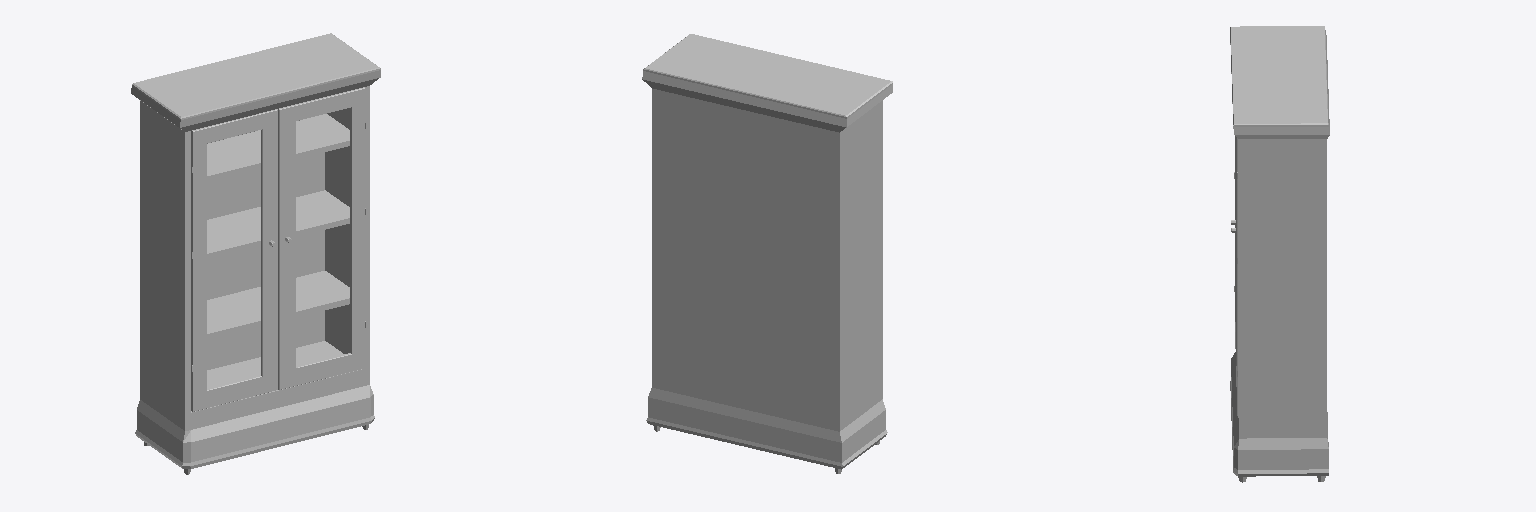
File: dulap.obj
3 renders of one model, left to right at view 1: azimuth 30°, elevation 25°; view 2: azimuth 150°, elevation 25°; view 3: azimuth 270°, elevation 25°, orthographic.
Visible parts, largest first — view 1: vitrine.003_vitrine_vitrine Mesh, vitrine.002_vitrine.003_vitrine Mesh, vitrine.001_vitrine.001_vitrine Mesh; view 2: vitrine.003_vitrine_vitrine Mesh; view 3: vitrine.003_vitrine_vitrine Mesh, vitrine.002_vitrine.003_vitrine Mesh.
Part boxes in pixels (x1,y1,x2,y2): vitrine.003_vitrine_vitrine Mesh: (131,33,380,474); vitrine.002_vitrine.003_vitrine Mesh: (278,87,365,389); vitrine.001_vitrine.001_vitrine Mesh: (191,109,277,411); vitrine.003_vitrine_vitrine Mesh: (642,34,892,473); vitrine.003_vitrine_vitrine Mesh: (1230,26,1329,482); vitrine.002_vitrine.003_vitrine Mesh: (1236,137,1238,417).
Size of the model in its own units: 1.26 by 2.14 by 0.5365.